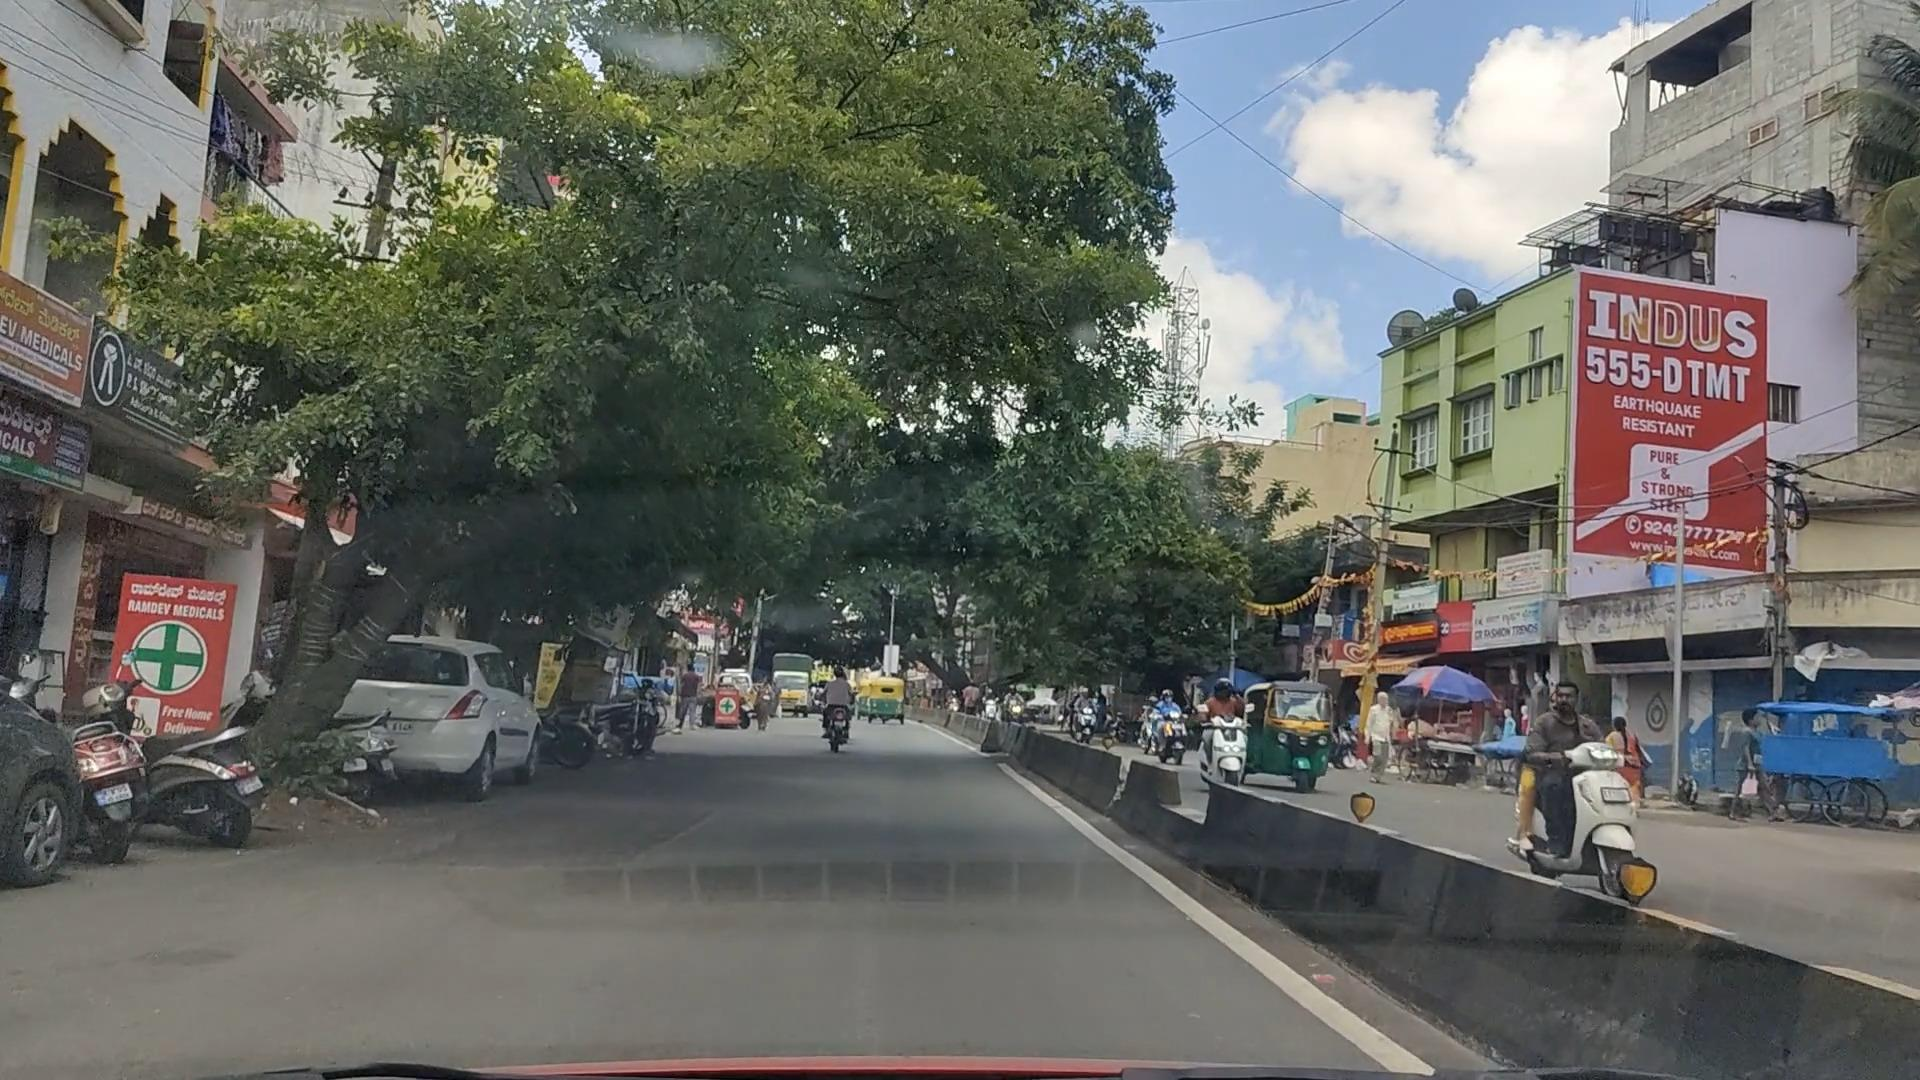RoadDamages: (75, 868, 252, 1048)
